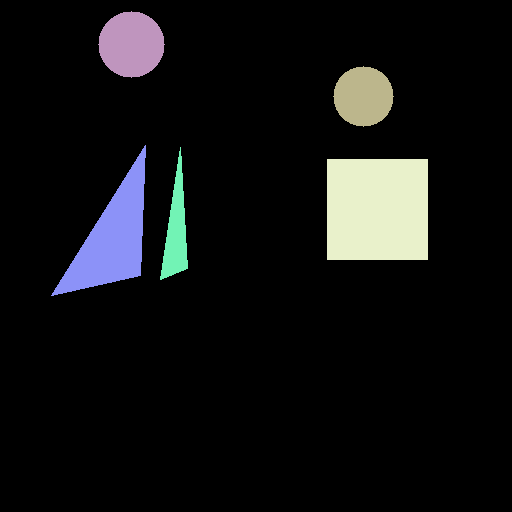circle: (98, 11, 164, 77), (333, 66, 393, 126)
square: (327, 159, 427, 259)
triangle: (51, 145, 145, 295), (160, 147, 187, 279)
